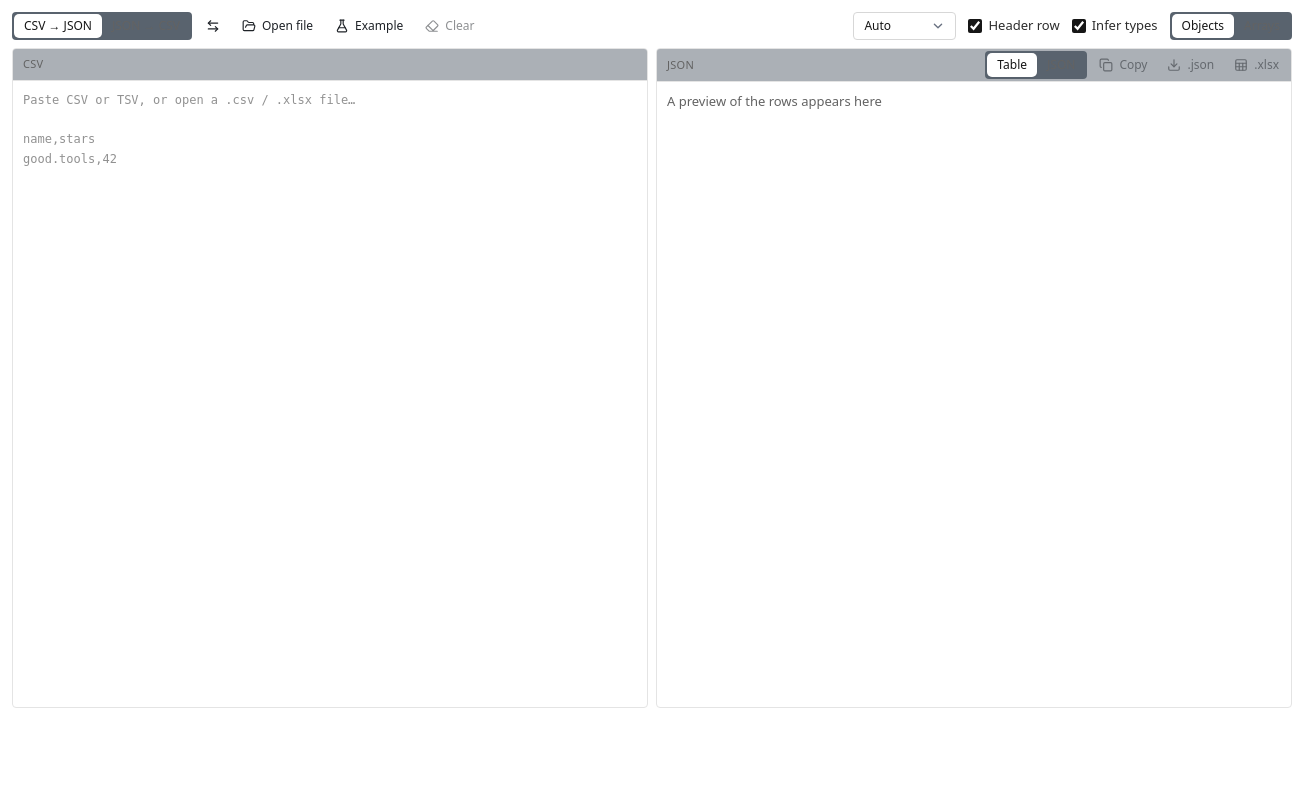
Test: flags JSON it cannot tabulate
The image size is (1304, 812).
Click the radio button labelled "JSON → CSV". click: (146,26)
box: top-left (102, 14), bottom-right (190, 38)
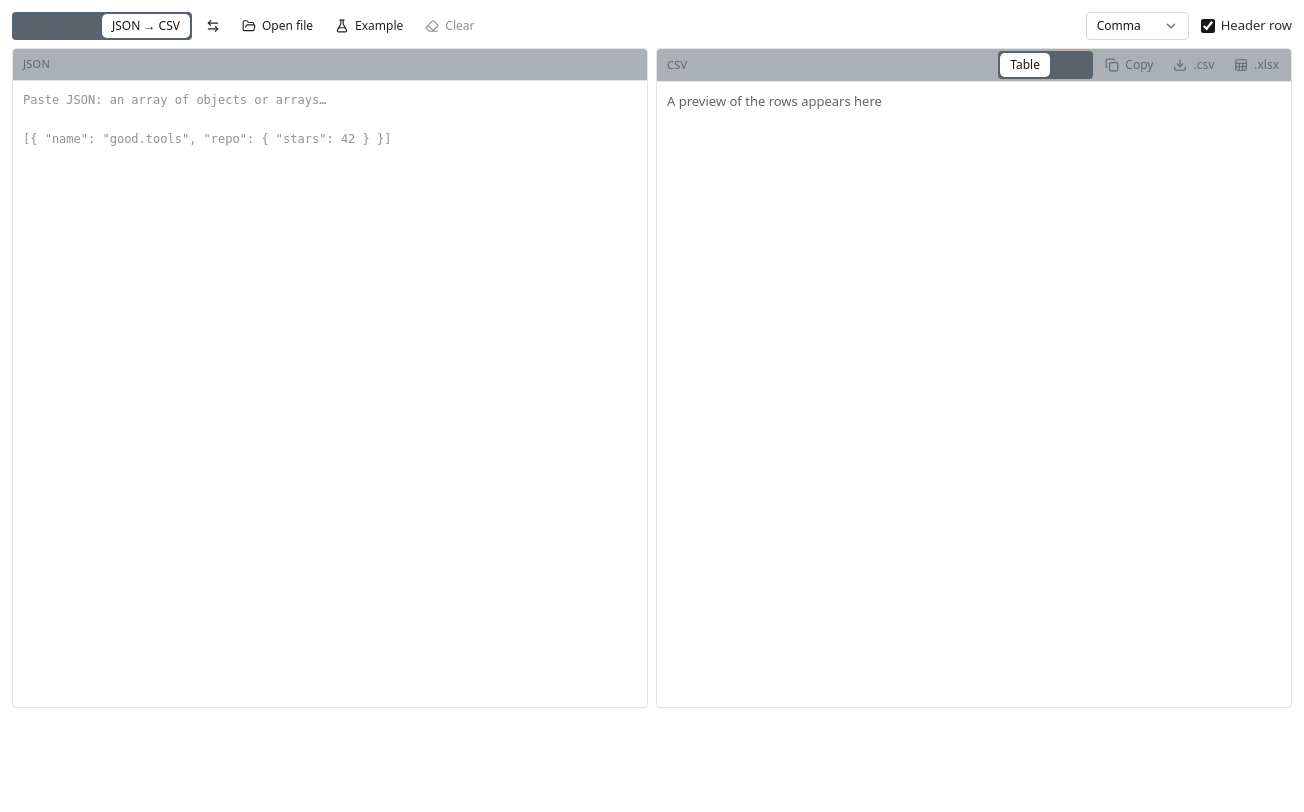
Replace the text in the text box named "JSON input" with "[1, 2]". click: (330,394)
box: top-left (13, 81), bottom-right (647, 707)
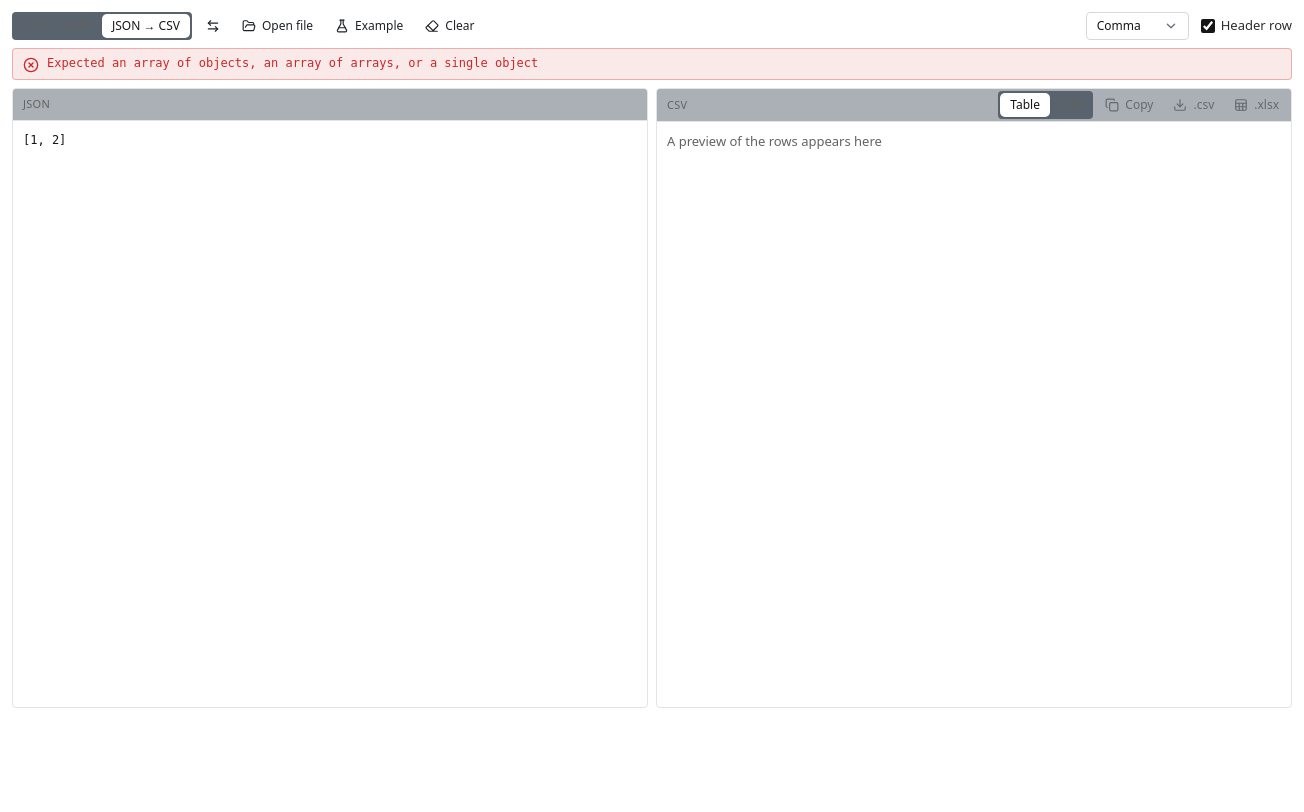
Expected: the message shows "array of objects", top-left (47, 56), bottom-right (538, 70)
